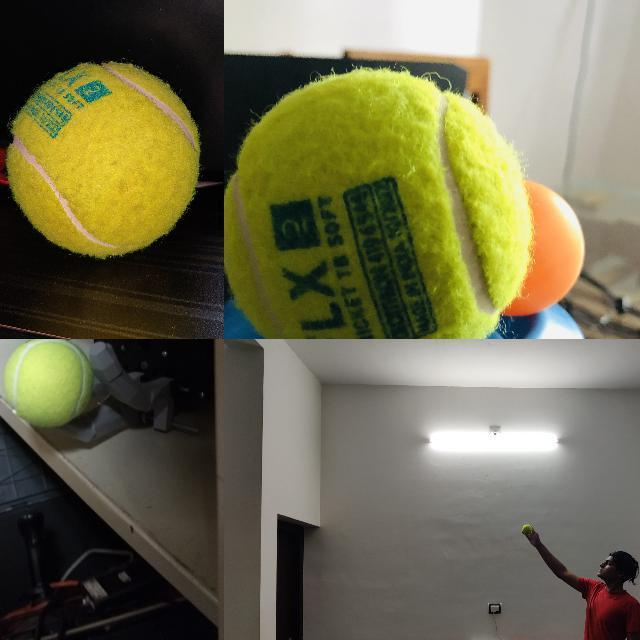tennis-ball: (224, 70, 530, 338), (4, 61, 203, 262), (2, 339, 94, 428), (522, 524, 532, 534)
